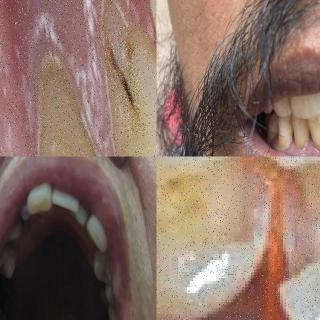Gum Swelling: (156, 156, 278, 310), (278, 156, 320, 320)
calculus: (9, 45, 115, 157)
cavities: (97, 19, 155, 147)
maligned: (86, 217, 112, 251), (71, 200, 89, 228)
plaque: (296, 130, 312, 154), (275, 132, 294, 152)
stains: (308, 117, 320, 137)
